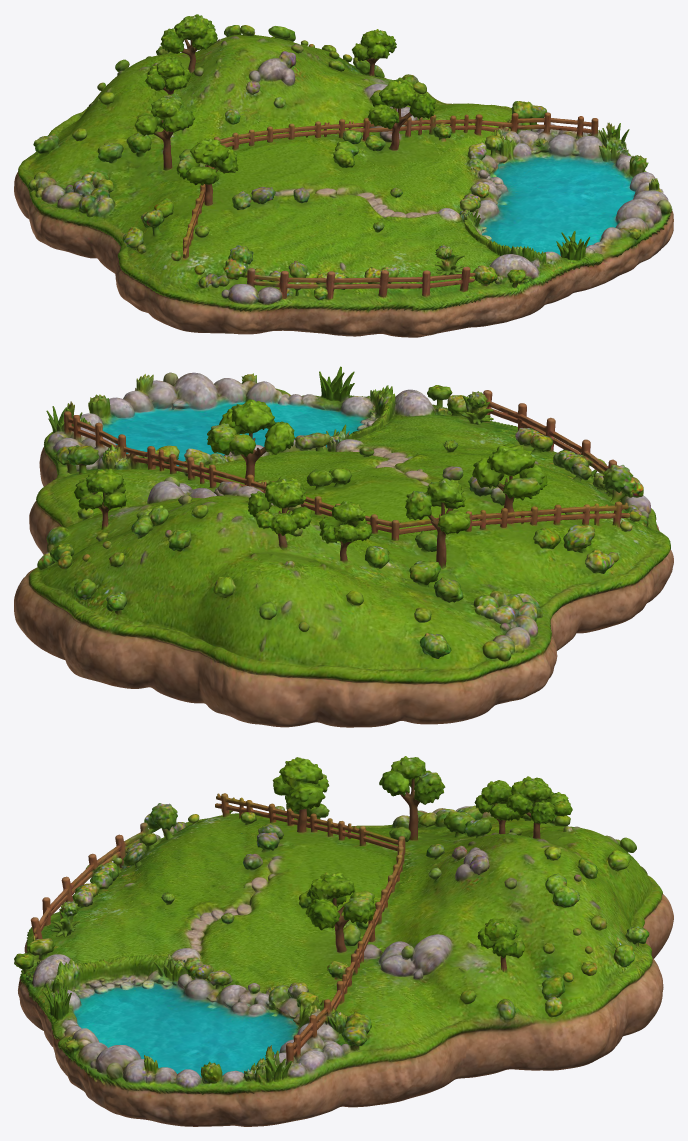
Rendered from terrain.glb.
The picture shows the model from 3 angles, top to bottom: view 1: azimuth 30°, elevation 25°; view 2: azimuth 150°, elevation 25°; view 3: azimuth 270°, elevation 25°; orthographic projection. The views are drawn at different scales.
Parts seen in each view (by area): view 1: tripo_node_868f0602-04a5-4169-8af8-af5dd996357a; view 2: tripo_node_868f0602-04a5-4169-8af8-af5dd996357a; view 3: tripo_node_868f0602-04a5-4169-8af8-af5dd996357a.
Part boxes in pixels (x1=…): tripo_node_868f0602-04a5-4169-8af8-af5dd996357a: x1=14, y1=14, x2=673, y2=337; tripo_node_868f0602-04a5-4169-8af8-af5dd996357a: x1=14, y1=366, x2=673, y2=727; tripo_node_868f0602-04a5-4169-8af8-af5dd996357a: x1=14, y1=756, x2=673, y2=1126.
Size of the model in its own units: 0.978 by 0.3038 by 0.9803.
Materials: 1 (1 with a texture image).
